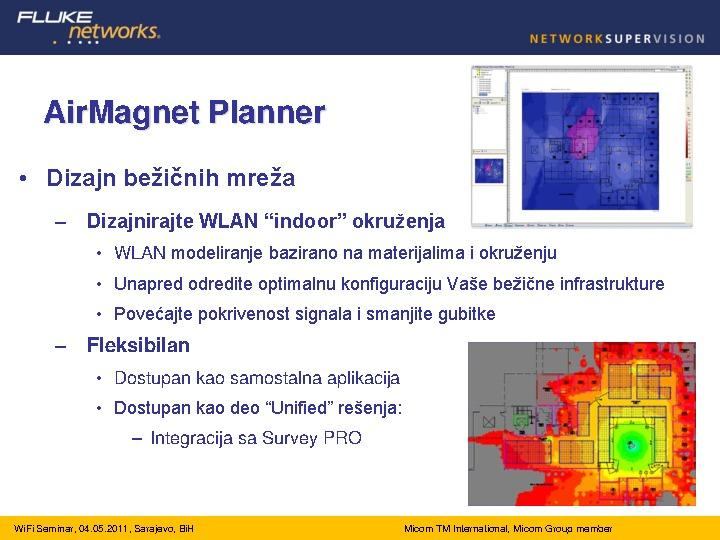paragraph: (10, 162, 706, 484)
subtitle: (25, 81, 341, 143)
title: (13, 2, 711, 50)
